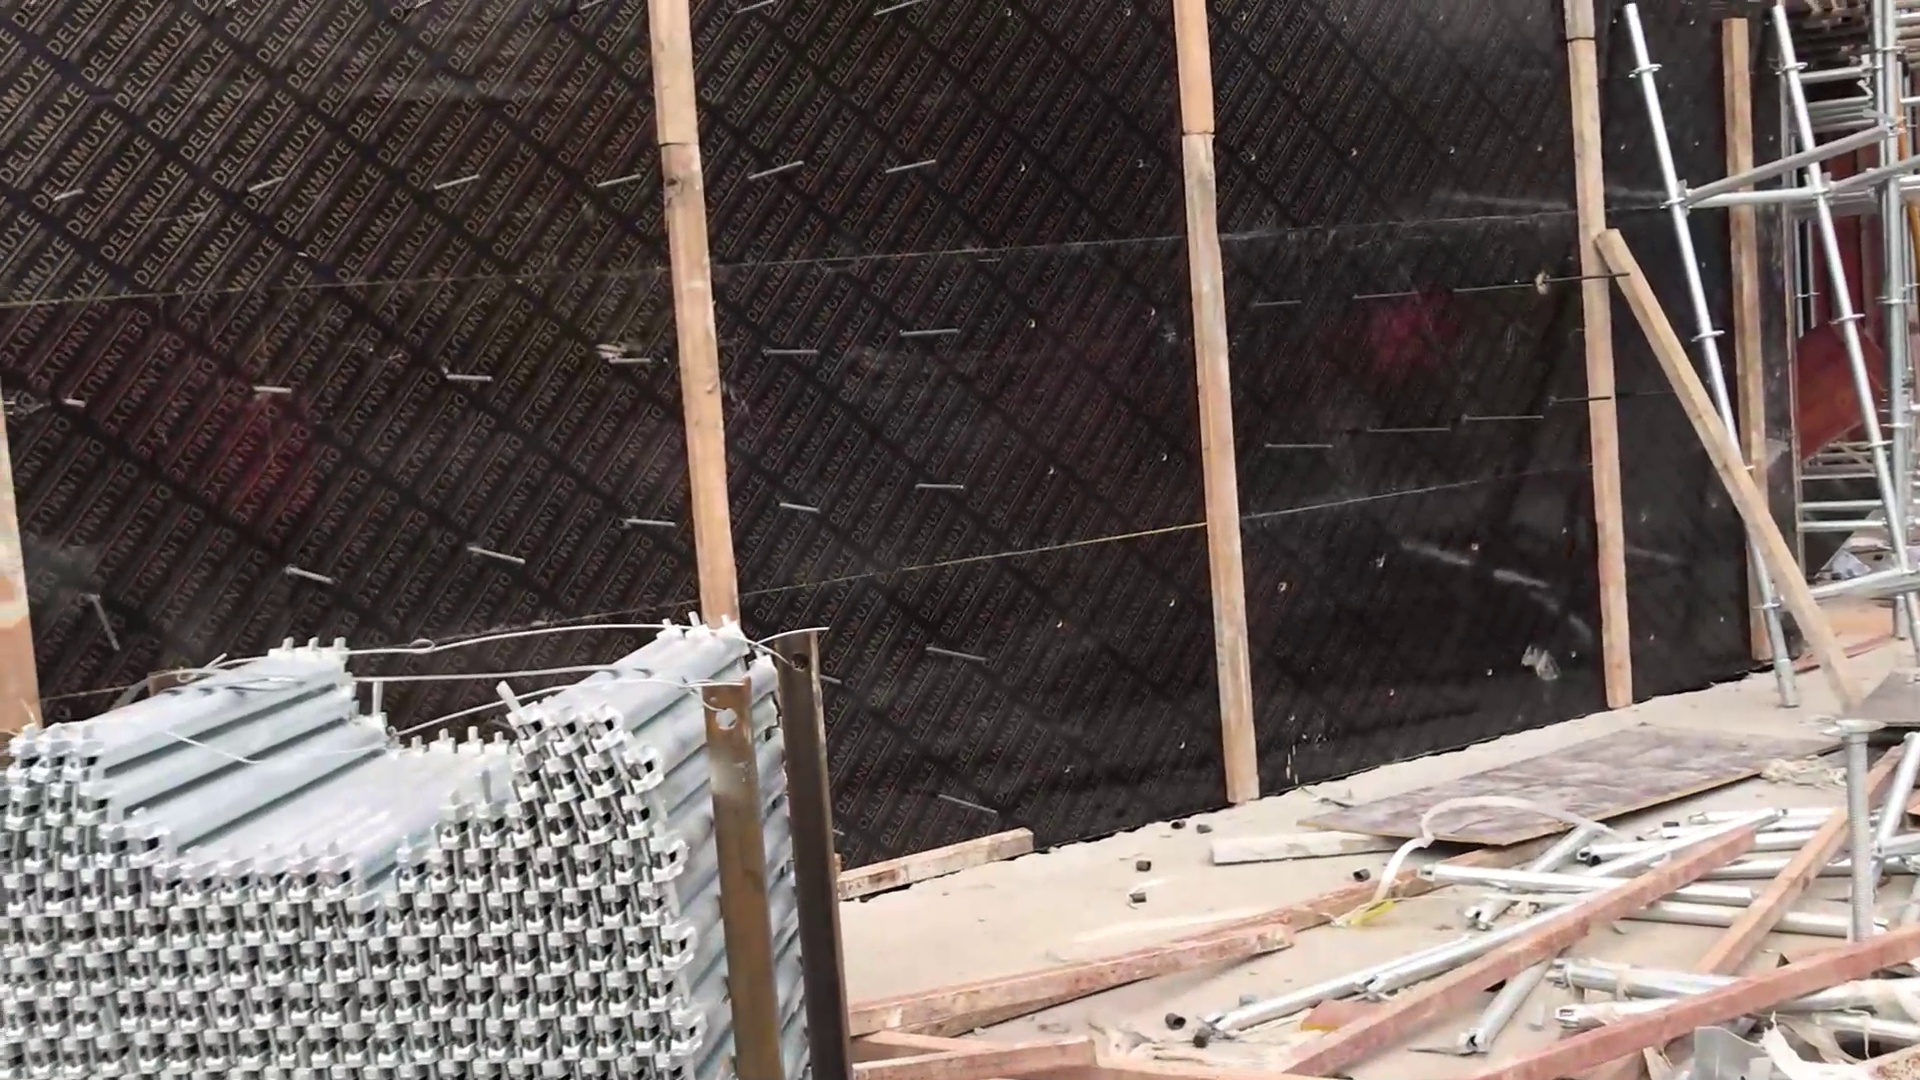scaffold: (1, 595, 855, 1077)
